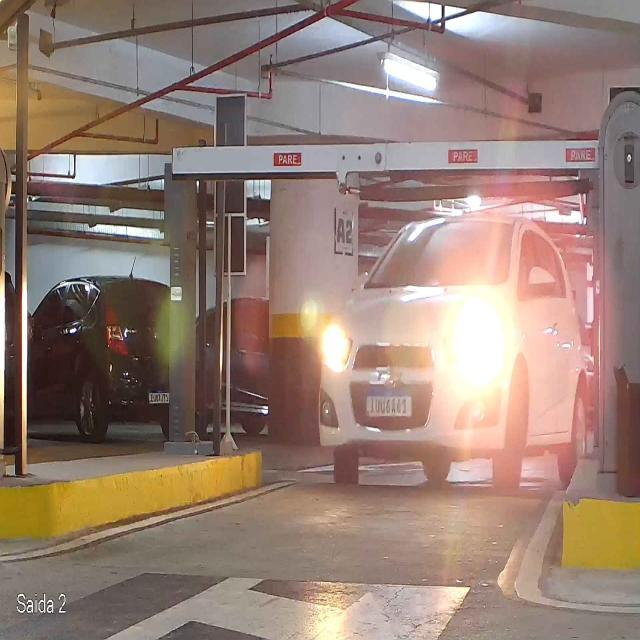mercosul_plate: (364, 388, 414, 419)
